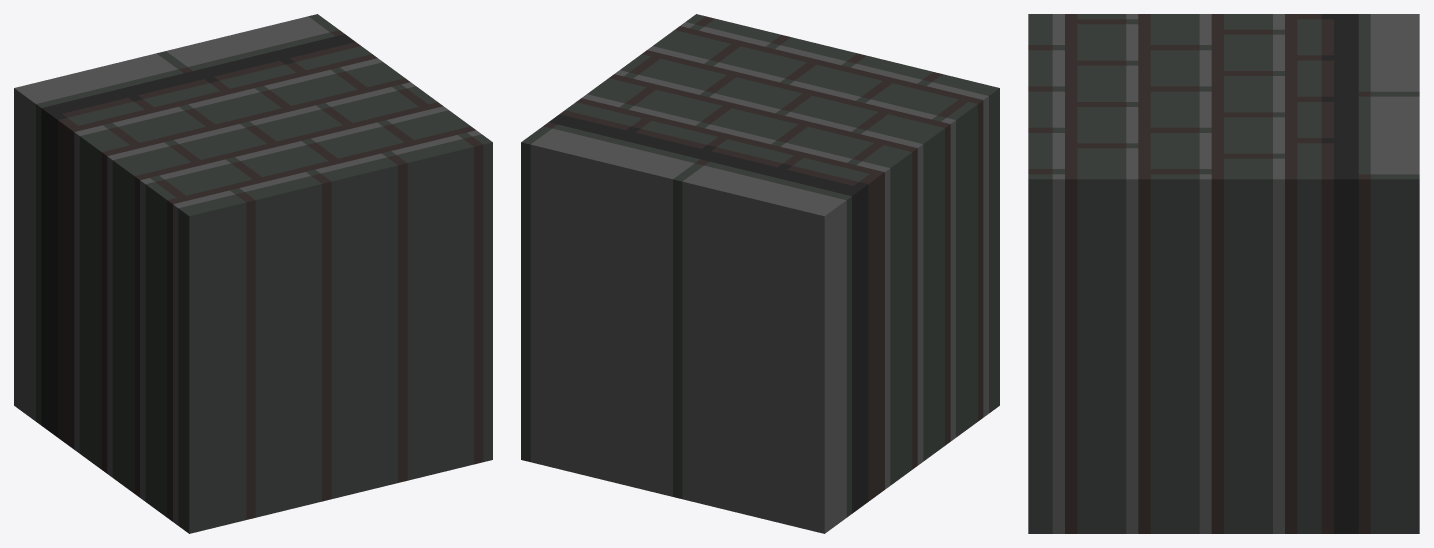
The model's file is Tile_Chapter01_0_.obj.
3 views of the same model, side by side, from view 1: azimuth 30°, elevation 25°; view 2: azimuth 150°, elevation 25°; view 3: azimuth 270°, elevation 25° (orthographic). The views are drawn at different scales.
Bounding box in the file's own units: 3.2 × 3.2 × 3.2.
1 material, 1 textured.
